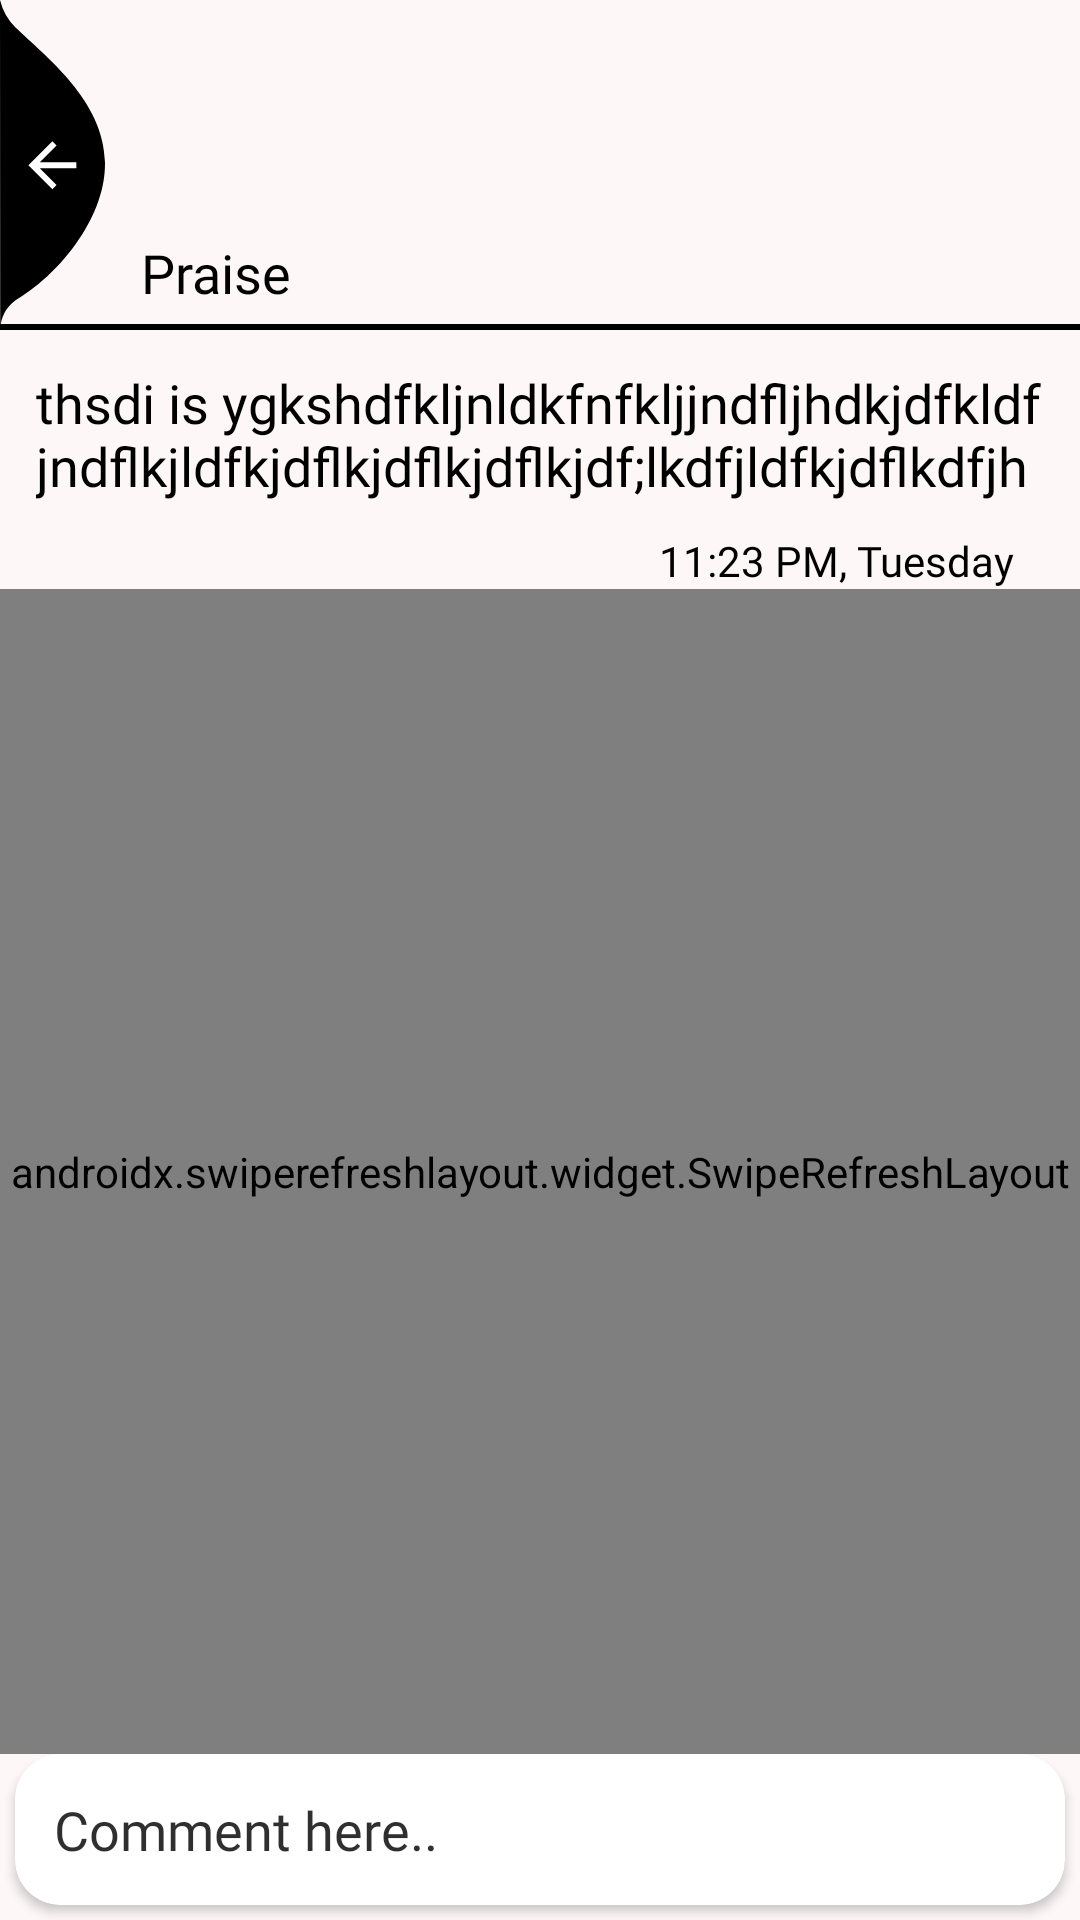

Where icons sit on this 1080x1920 app screen, as (x1, y1, x2, y2):
back: (0, 0, 105, 330)
